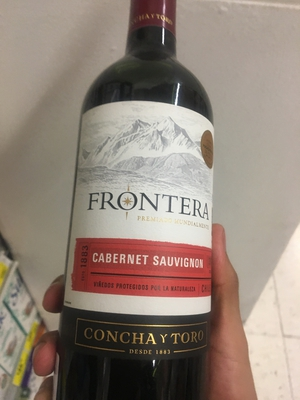frontera cabernet sauvignon: (57, 14, 224, 400)
